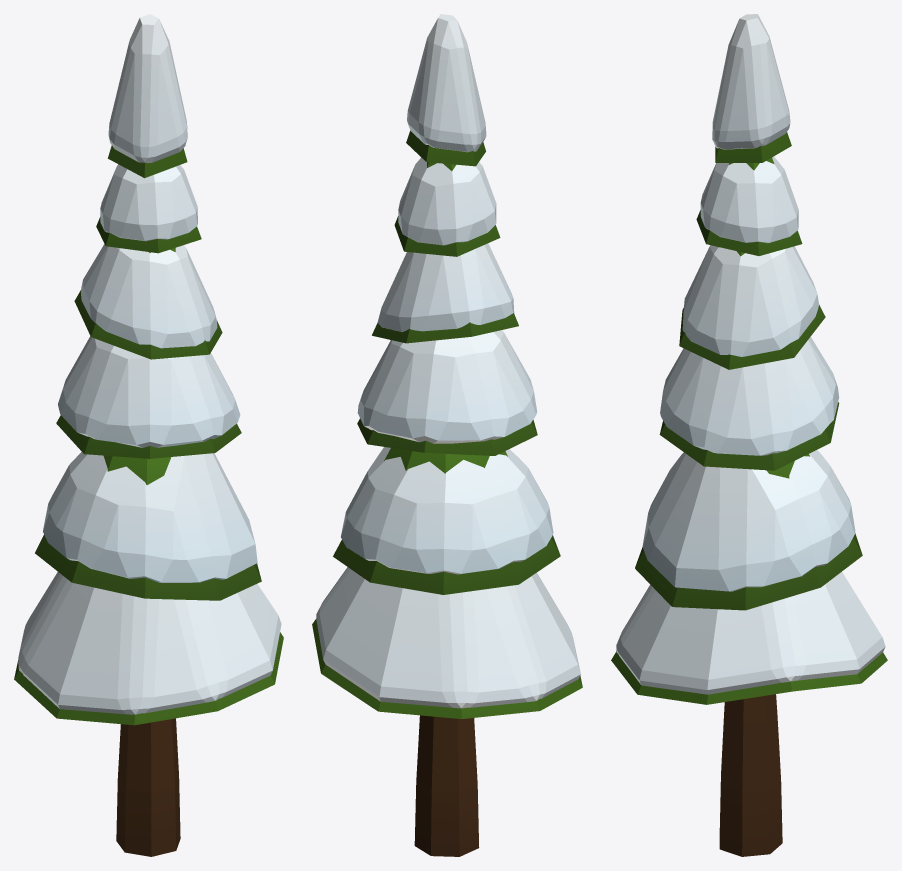
The model's file is sapin2_complet.fbx.
3 views of the same model, side by side, from view 1: azimuth 30°, elevation 25°; view 2: azimuth 150°, elevation 25°; view 3: azimuth 270°, elevation 25° (orthographic).
Visible parts, largest first — view 1: Cone.043, Cone.042, Cone.041, Cone.040, Cone.044, Cylinder.014, Cone.039, Cone.020, Cone.021, Cone.019, Cone.018, Cone.017 (+1 smaller); view 2: Cone.043, Cone.042, Cone.041, Cone.040, Cylinder.014, Cone.044, Cone.039, Cone.020, Cone.021, Cone.019, Cone.018, Cone.017 (+1 smaller); view 3: Cone.042, Cone.043, Cone.041, Cone.040, Cylinder.014, Cone.044, Cone.039, Cone.020, Cone.021, Cone.019, Cone.018, Cone.017 (+1 smaller).
Part boxes in pixels (box(x1,y1,x2,y2)): Cone.043: box(18, 572, 281, 714); Cone.042: box(43, 452, 257, 582); Cone.041: box(58, 336, 240, 447); Cone.040: box(81, 244, 217, 348); Cone.044: box(108, 14, 187, 162); Cylinder.014: box(116, 718, 180, 856); Cone.039: box(100, 164, 197, 241); Cone.020: box(35, 455, 261, 600); Cone.021: box(14, 632, 283, 725); Cone.019: box(56, 415, 241, 458); Cone.018: box(74, 248, 222, 359); Cone.017: box(96, 217, 201, 253); Cone.043: box(316, 567, 580, 708); Cone.042: box(341, 447, 553, 574); Cone.041: box(357, 330, 537, 443); Cone.040: box(377, 243, 514, 331); Cylinder.014: box(414, 715, 479, 856); Cone.044: box(407, 14, 486, 152); Cone.039: box(398, 157, 496, 245); Cone.020: box(333, 448, 560, 594); Cone.021: box(312, 619, 582, 718); Cone.019: box(357, 418, 537, 455); Cone.018: box(372, 313, 518, 343); Cone.017: box(394, 162, 500, 256); Cone.042: box(642, 450, 855, 591); Cone.043: box(616, 572, 885, 694); Cone.041: box(660, 336, 839, 455); Cone.040: box(682, 245, 818, 356); Cylinder.014: box(719, 694, 782, 856); Cone.044: box(712, 14, 790, 149); Cone.039: box(700, 156, 798, 243); Cone.020: box(635, 454, 862, 610); Cone.021: box(611, 652, 887, 704); Cone.019: box(659, 402, 839, 470); Cone.018: box(679, 247, 825, 369); Cone.017: box(696, 157, 802, 255).
Bounding box in the file's own units: 4.66 × 16.16 × 4.9.
1 material, 1 textured.
